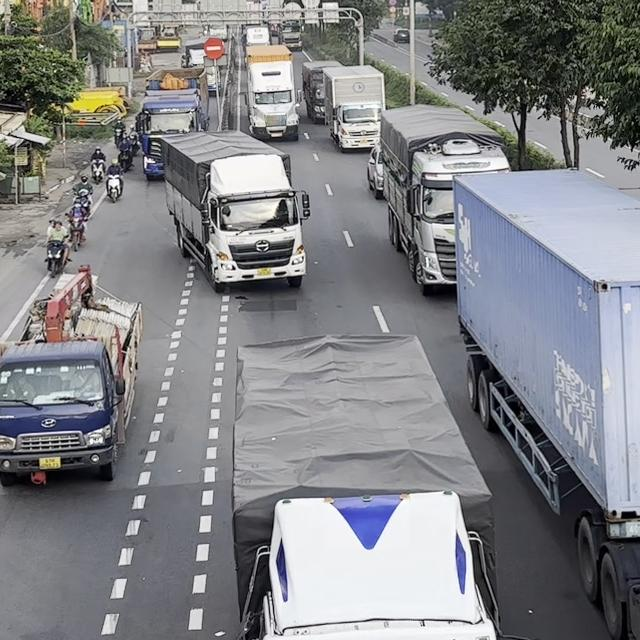motorcycle: (44, 238, 69, 277), (65, 210, 87, 251), (72, 174, 93, 207), (105, 169, 124, 202), (75, 187, 92, 217), (116, 146, 133, 171), (90, 157, 105, 184), (113, 126, 124, 147)
truck: (452, 166, 639, 639), (232, 333, 502, 640), (0, 264, 143, 486), (377, 103, 512, 296), (158, 129, 310, 293), (136, 69, 209, 180), (323, 63, 386, 153), (245, 43, 300, 141), (301, 60, 343, 124), (181, 35, 224, 95)
